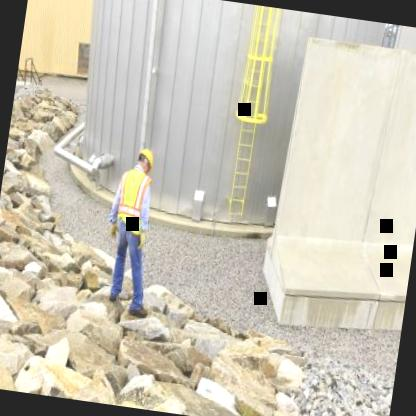helmet: (132, 145, 156, 181)
